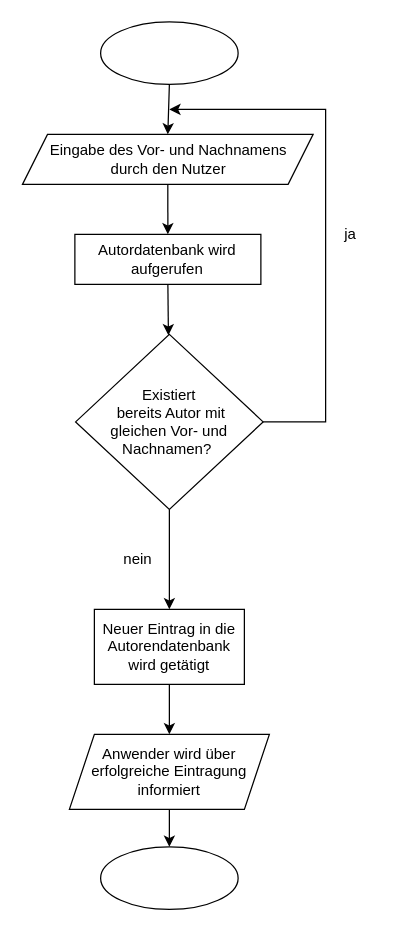
This 396x931 diagram has some shape labels left out. Here are the shapes that lost their labels. From the top down, the centre of each, then its label:
(x=168, y=52): Start
(x=168, y=877): Ende
